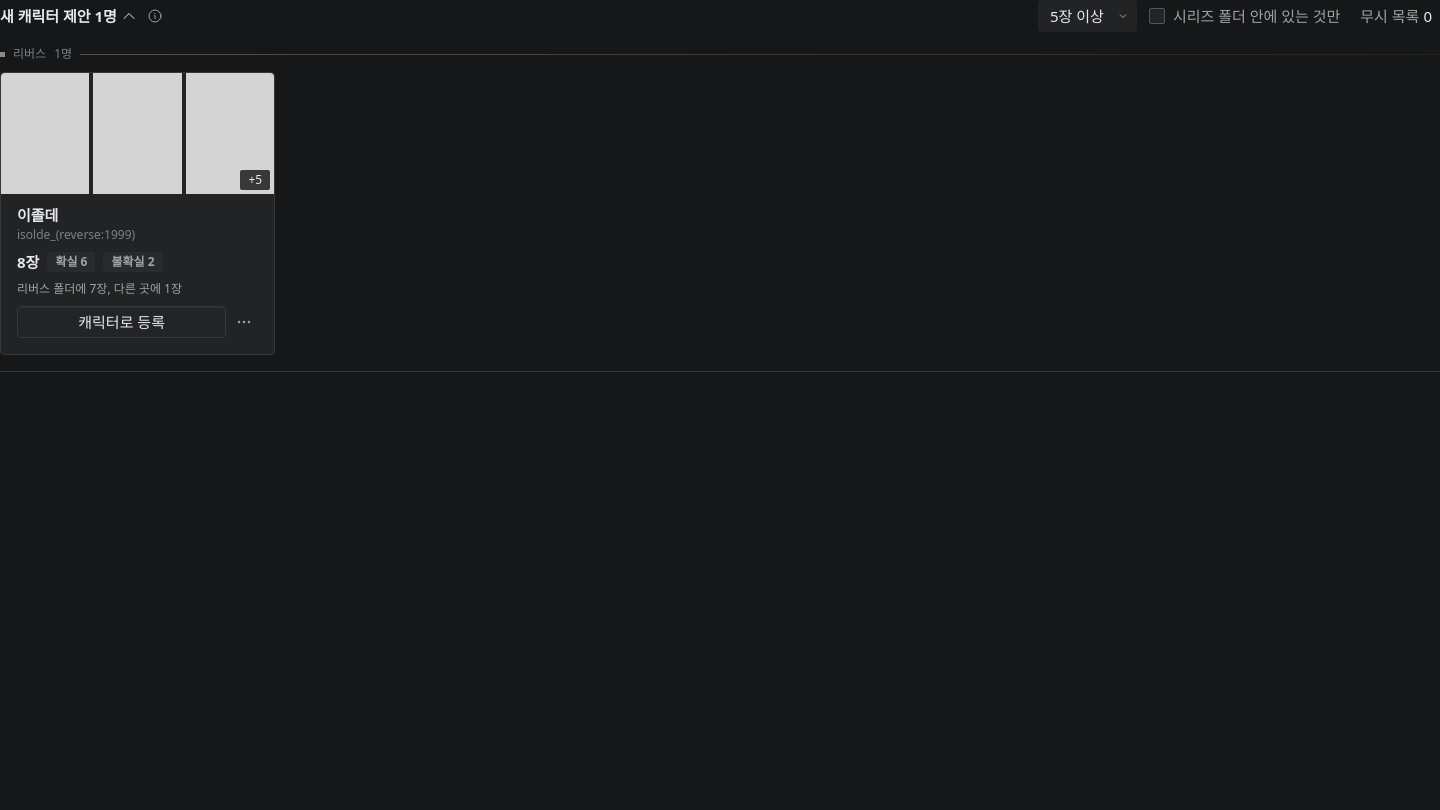
keeps a registered suggestion retired after refreshing and remounting
Expected: the text "이졸데" is shown, x1=17 y1=205 x2=58 y2=225
Click the button "캐릭터로 등록" at [122, 322], box x1=17 y1=306 x2=226 y2=338
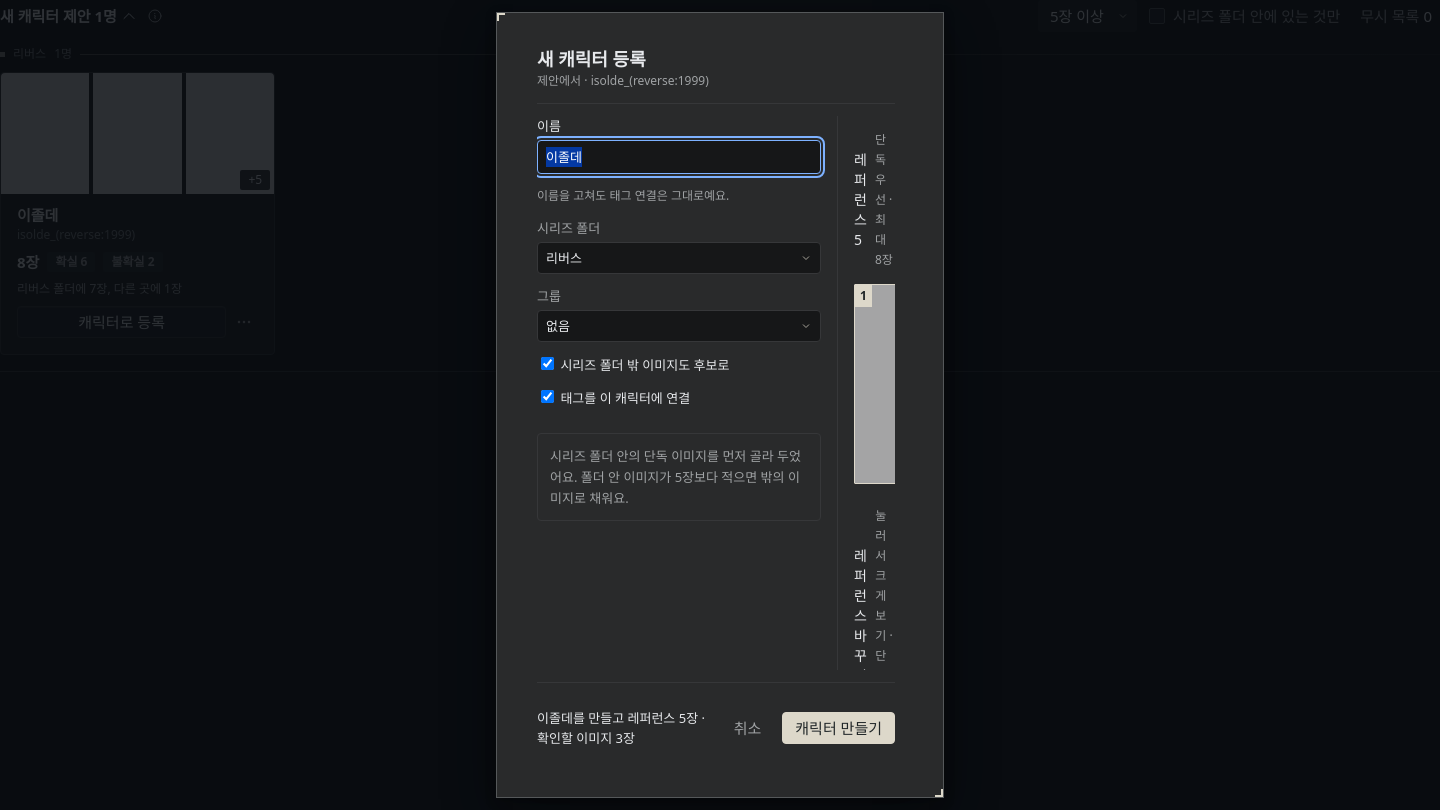
Expected: the button "캐릭터 만들기" is enabled
Click the button "캐릭터 만들기" at [839, 728], box x1=782 y1=712 x2=895 y2=744
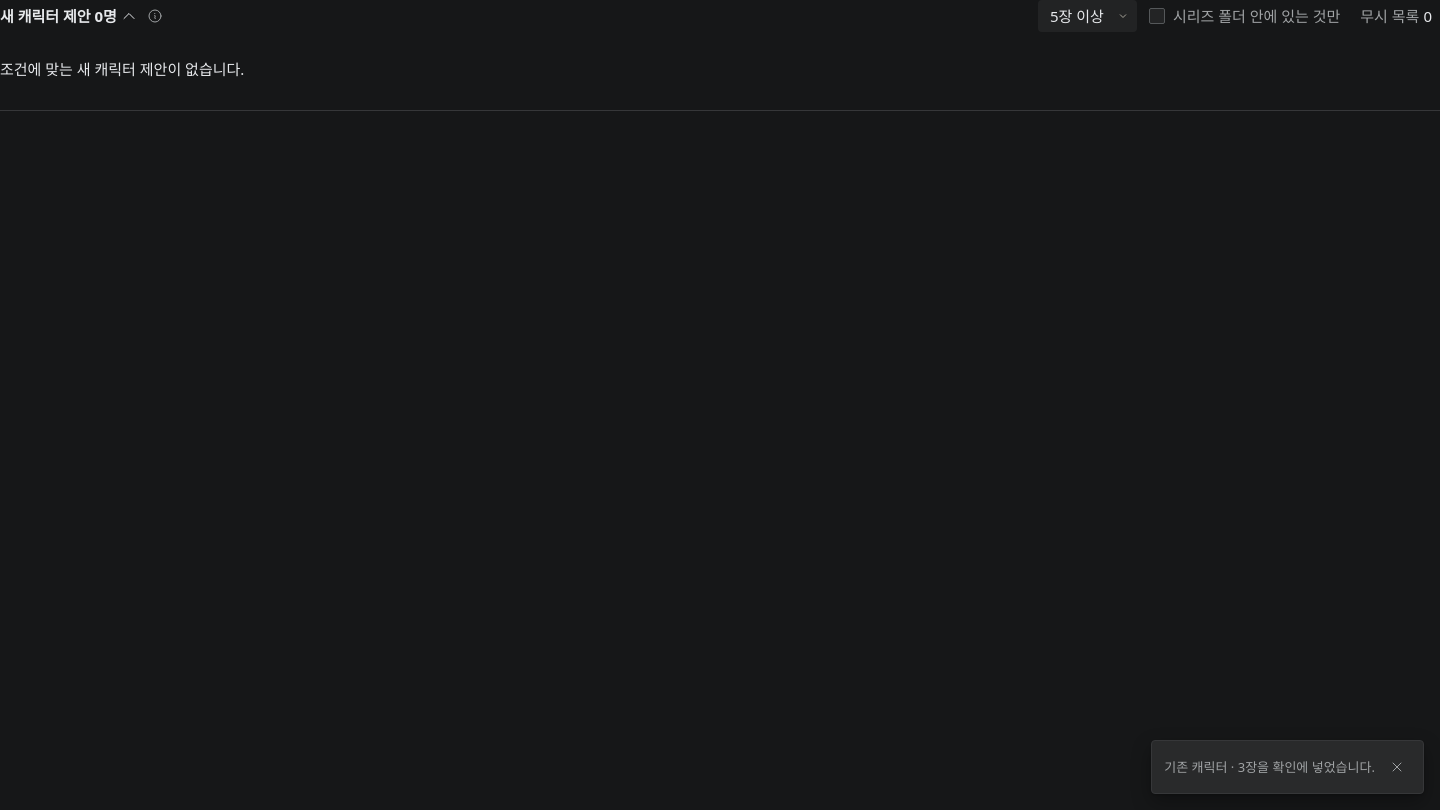
Expected: the text "조건에 맞는 새 캐릭터 제안이 없습니다." is shown, x1=0 y1=59 x2=244 y2=79
